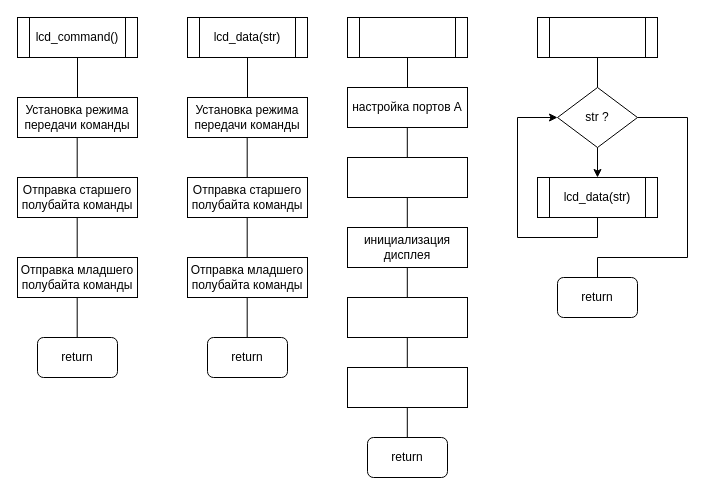
Image size: 706x495. Some labels were removed from this diagram. The box of each missing label's shape, as (x1, y1, x2, y2) in pixels:
lcd_init(): (346, 16, 468, 58)
lcd_print(str): (536, 16, 658, 58)
задержка 20 мс: (346, 156, 468, 198)
Задержка после очистки дисплея: (346, 366, 468, 408)
Установка параметров дисплея: (346, 296, 468, 338)
